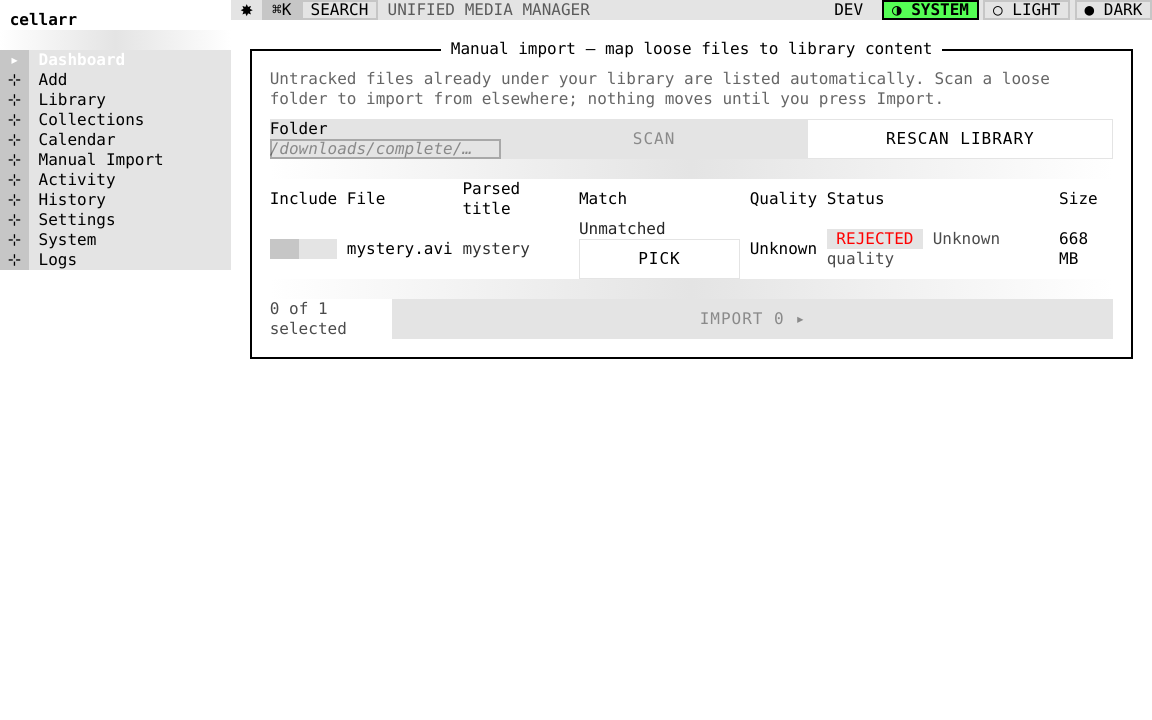
Test: Manual Import screen › opens the re-map / onboarding picker for an unmatched row
Check: the text "mystery.avi" is shown, box [337, 219, 453, 279]
Click the button "Pick".
click(659, 259)  # box [579, 239, 740, 279]
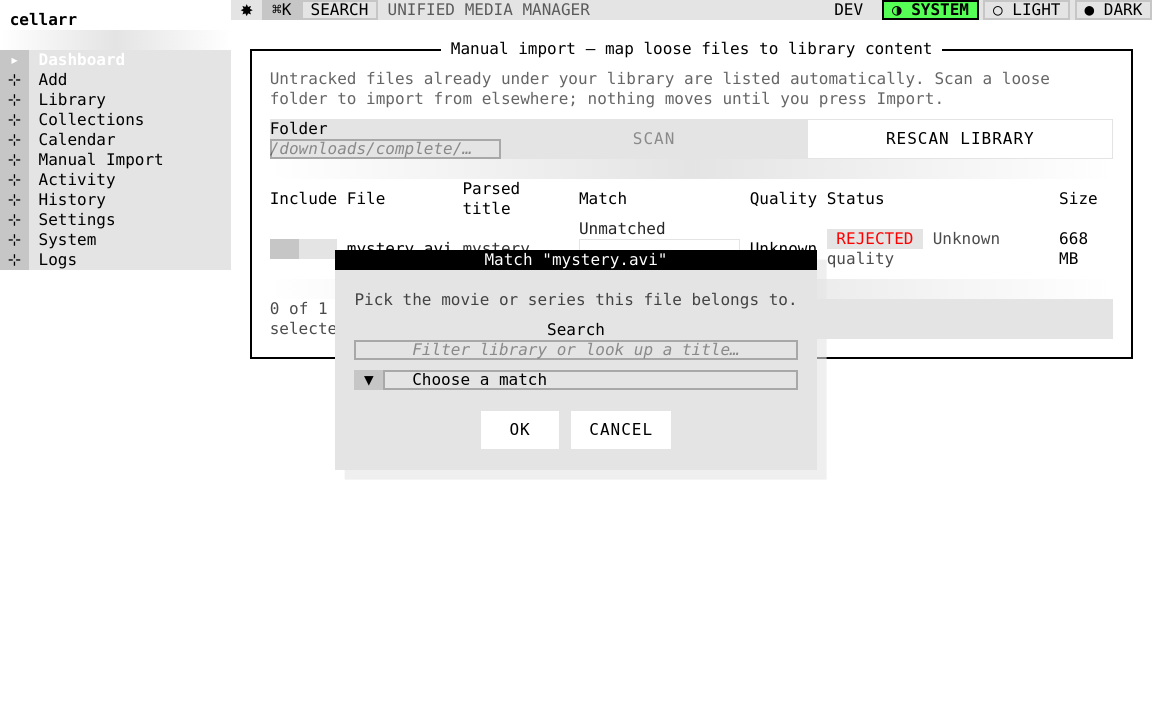
Check: the field named "target-search" is shown, box [354, 340, 798, 360]
